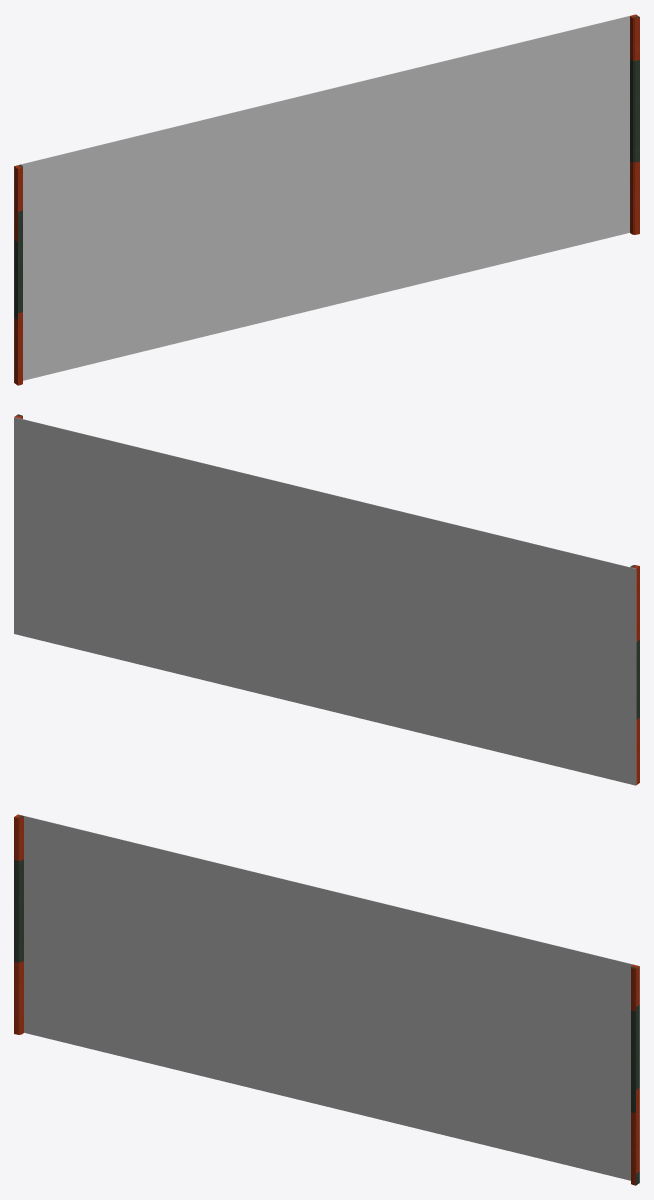
Rendered from livingroomwall_1.fbx.
3 renders of one model, top to bottom at view 1: azimuth 30°, elevation 25°; view 2: azimuth 150°, elevation 25°; view 3: azimuth 330°, elevation 25°, orthographic.
Visible parts, largest first — view 1: polySurface199; view 2: polySurface199; view 3: polySurface199.
Part boxes in pixels (x1,y1,x2,y2): polySurface199: (14,14,639,385); polySurface199: (14,414,639,785); polySurface199: (14,814,639,1185).
Bounding box in the file's own units: 9.04 × 3.01 × 0.1005.
